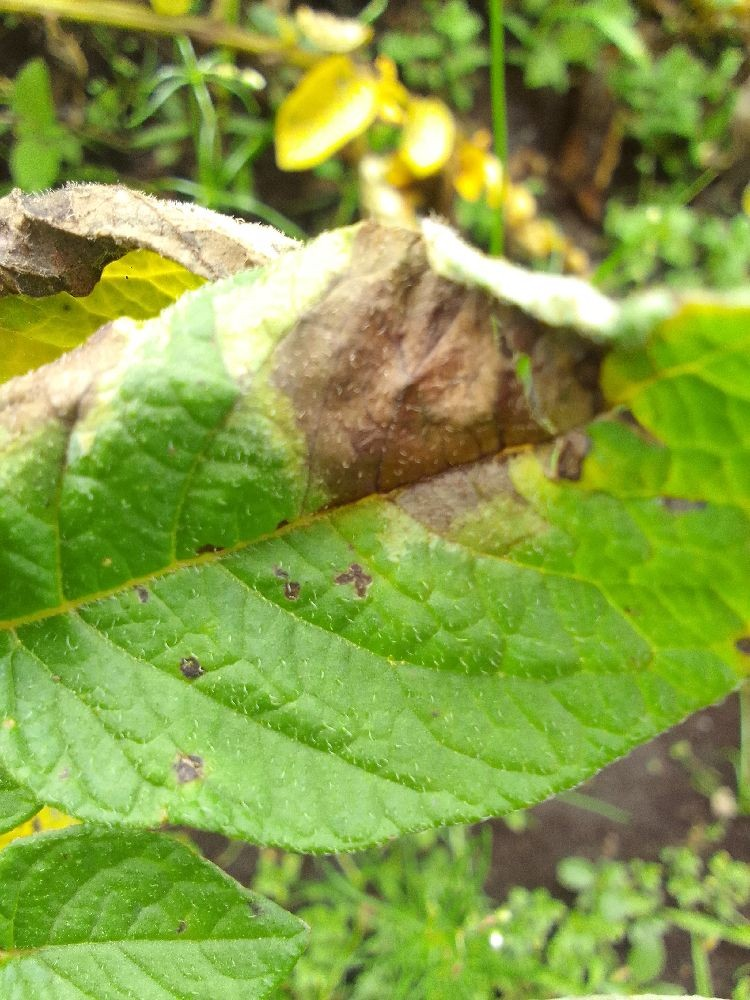late_blight: (0, 0, 749, 562), (435, 658, 750, 945), (650, 917, 704, 1000), (696, 932, 750, 1000)
